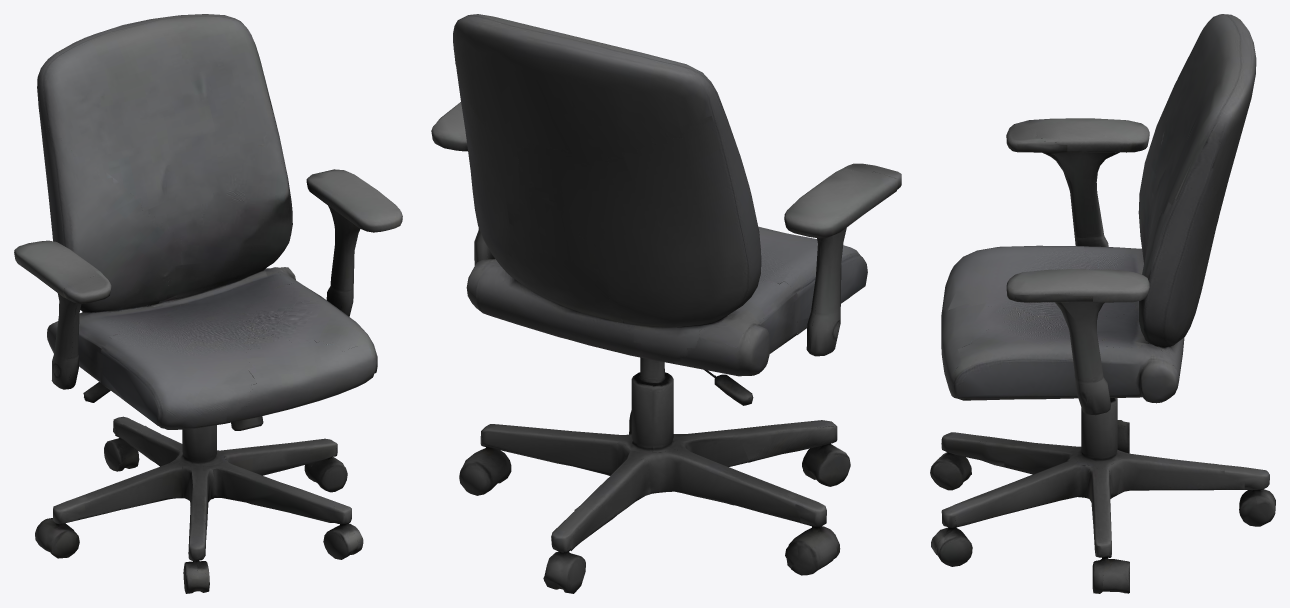
Rendered from chair.glb.
3 views of the same model, side by side, from view 1: azimuth 30°, elevation 25°; view 2: azimuth 150°, elevation 25°; view 3: azimuth 270°, elevation 25° (orthographic). The views are drawn at different scales.
Parts seen in each view (by area): view 1: model.001; view 2: model.001; view 3: model.001.
Boxes of the visible parts, <box> form: model.001: <box>14,14,402,593</box>; model.001: <box>431,14,901,593</box>; model.001: <box>930,14,1275,593</box>.
Size of the model in its own units: 1.39 by 1.76 by 1.17.
1 material, 1 textured.
